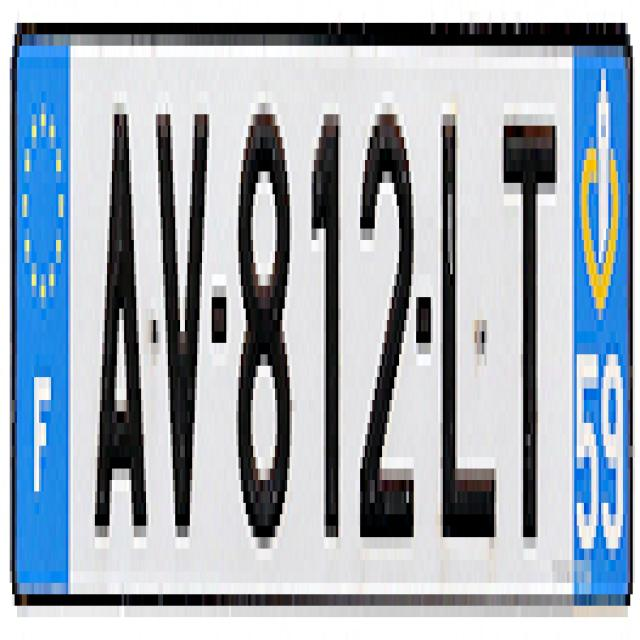EU: (9, 25, 633, 624)
France: (16, 35, 69, 600)
